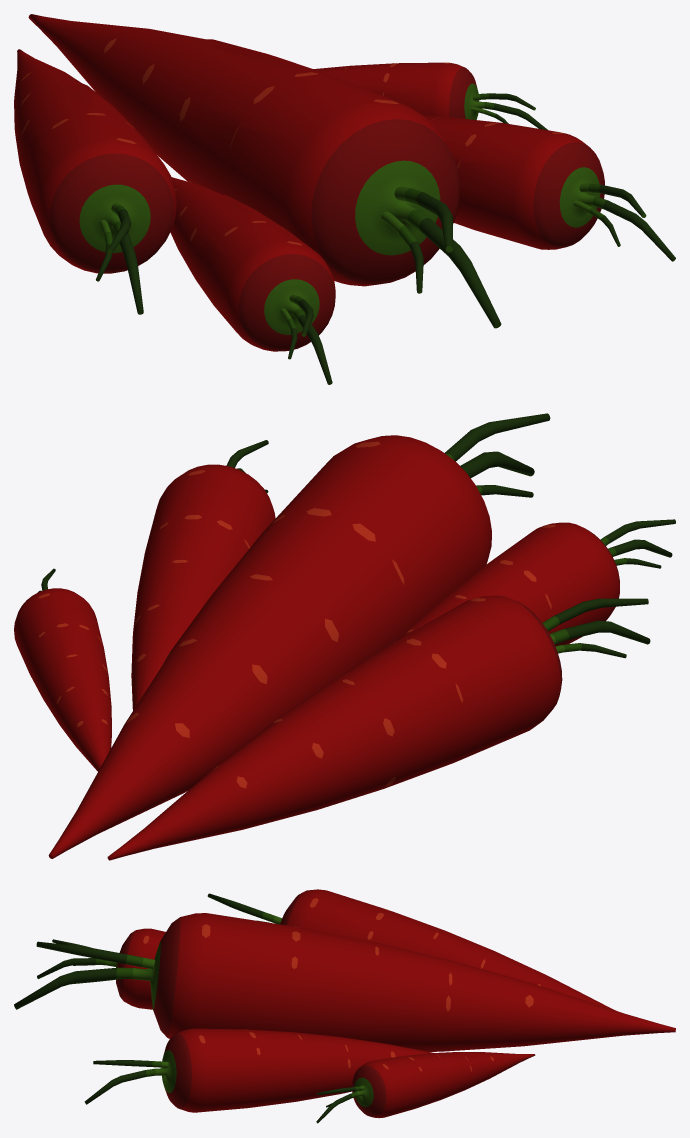
The model's file is vegetable.glb.
The picture shows the model from 3 angles, top to bottom: view 1: azimuth 30°, elevation 25°; view 2: azimuth 150°, elevation 25°; view 3: azimuth 270°, elevation 25°; orthographic projection. The views are drawn at different scales.
Parts seen in each view (by area): view 1: Cylinder_2, Cylinder.001_3, Cylinder.003_5, Cylinder.002_4, Cylinder.004_6; view 2: Cylinder_2, Cylinder.001_3, Cylinder.003_5, Cylinder.002_4, Cylinder.004_6; view 3: Cylinder_2, Cylinder.003_5, Cylinder.001_3, Cylinder.004_6, Cylinder.002_4.
Part boxes in pixels (x1,y1,x2,y2): Cylinder_2: (28, 14, 501, 328); Cylinder.001_3: (14, 49, 176, 314); Cylinder.003_5: (423, 115, 675, 261); Cylinder.002_4: (170, 177, 335, 384); Cylinder.004_6: (313, 62, 547, 130); Cylinder_2: (48, 413, 550, 858); Cylinder.001_3: (107, 595, 650, 860); Cylinder.003_5: (131, 440, 275, 710); Cylinder.002_4: (401, 519, 675, 646); Cylinder.004_6: (14, 568, 111, 771); Cylinder_2: (14, 913, 675, 1051); Cylinder.003_5: (84, 1028, 433, 1112); Cylinder.001_3: (207, 889, 615, 1010); Cylinder.004_6: (316, 1052, 535, 1123); Cylinder.002_4: (37, 928, 165, 1009).
Bounding box in the file's own units: 6.3 × 2.14 × 9.77.
